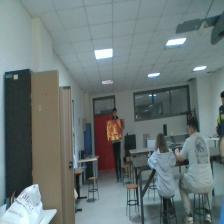fire-poster: (107, 120, 122, 141)
